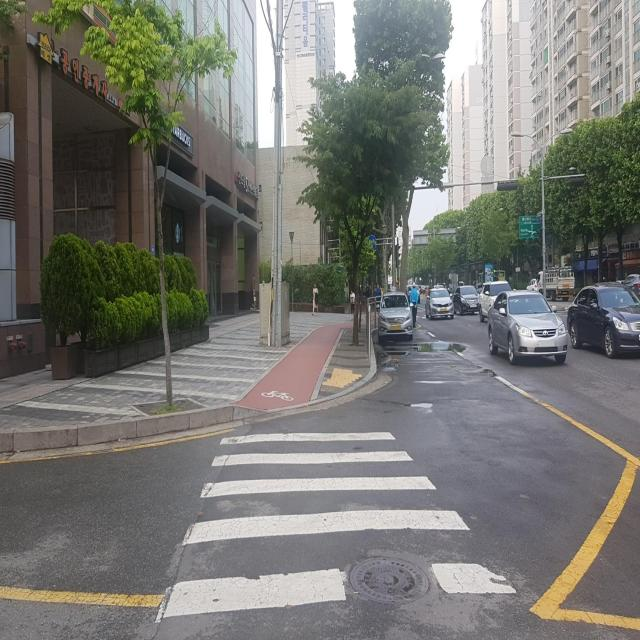횡단보도: (154, 431, 518, 626)
